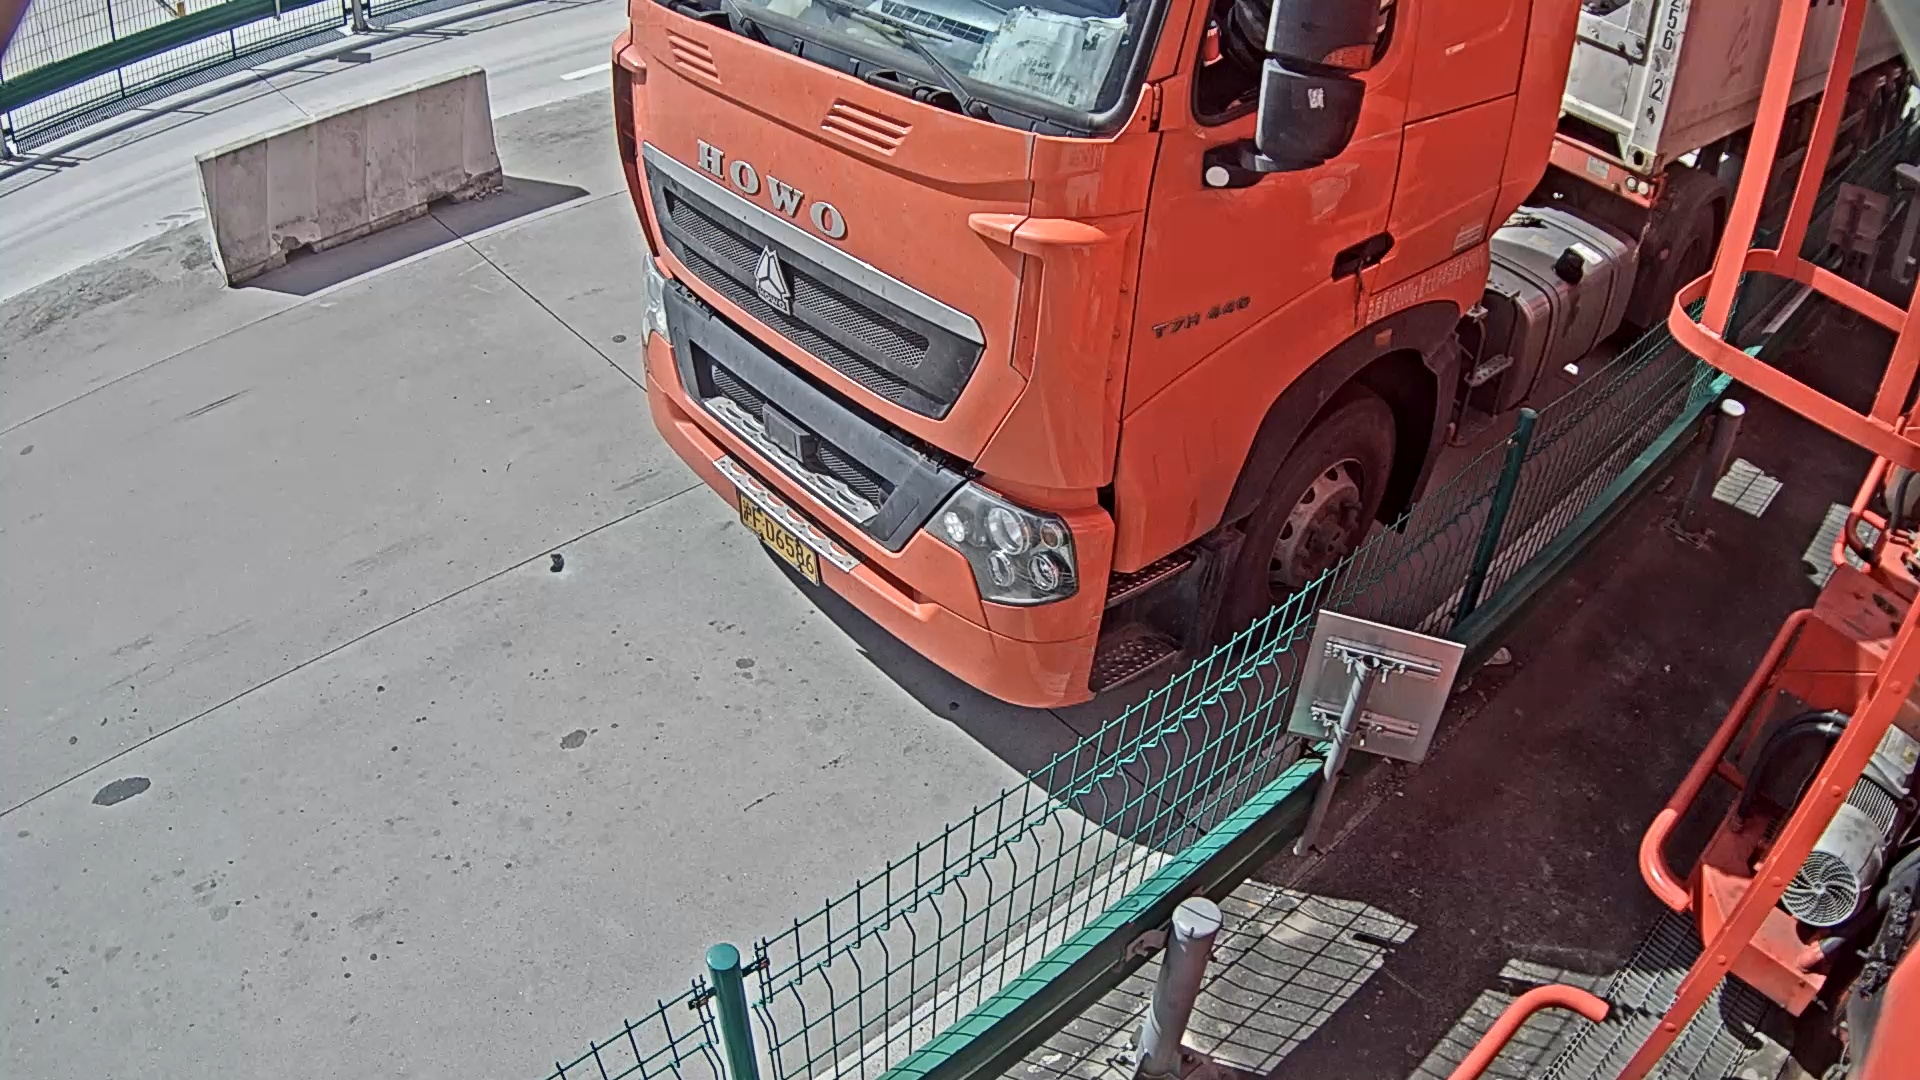head: (618, 1, 1581, 709)
plate: (736, 494, 822, 584)
